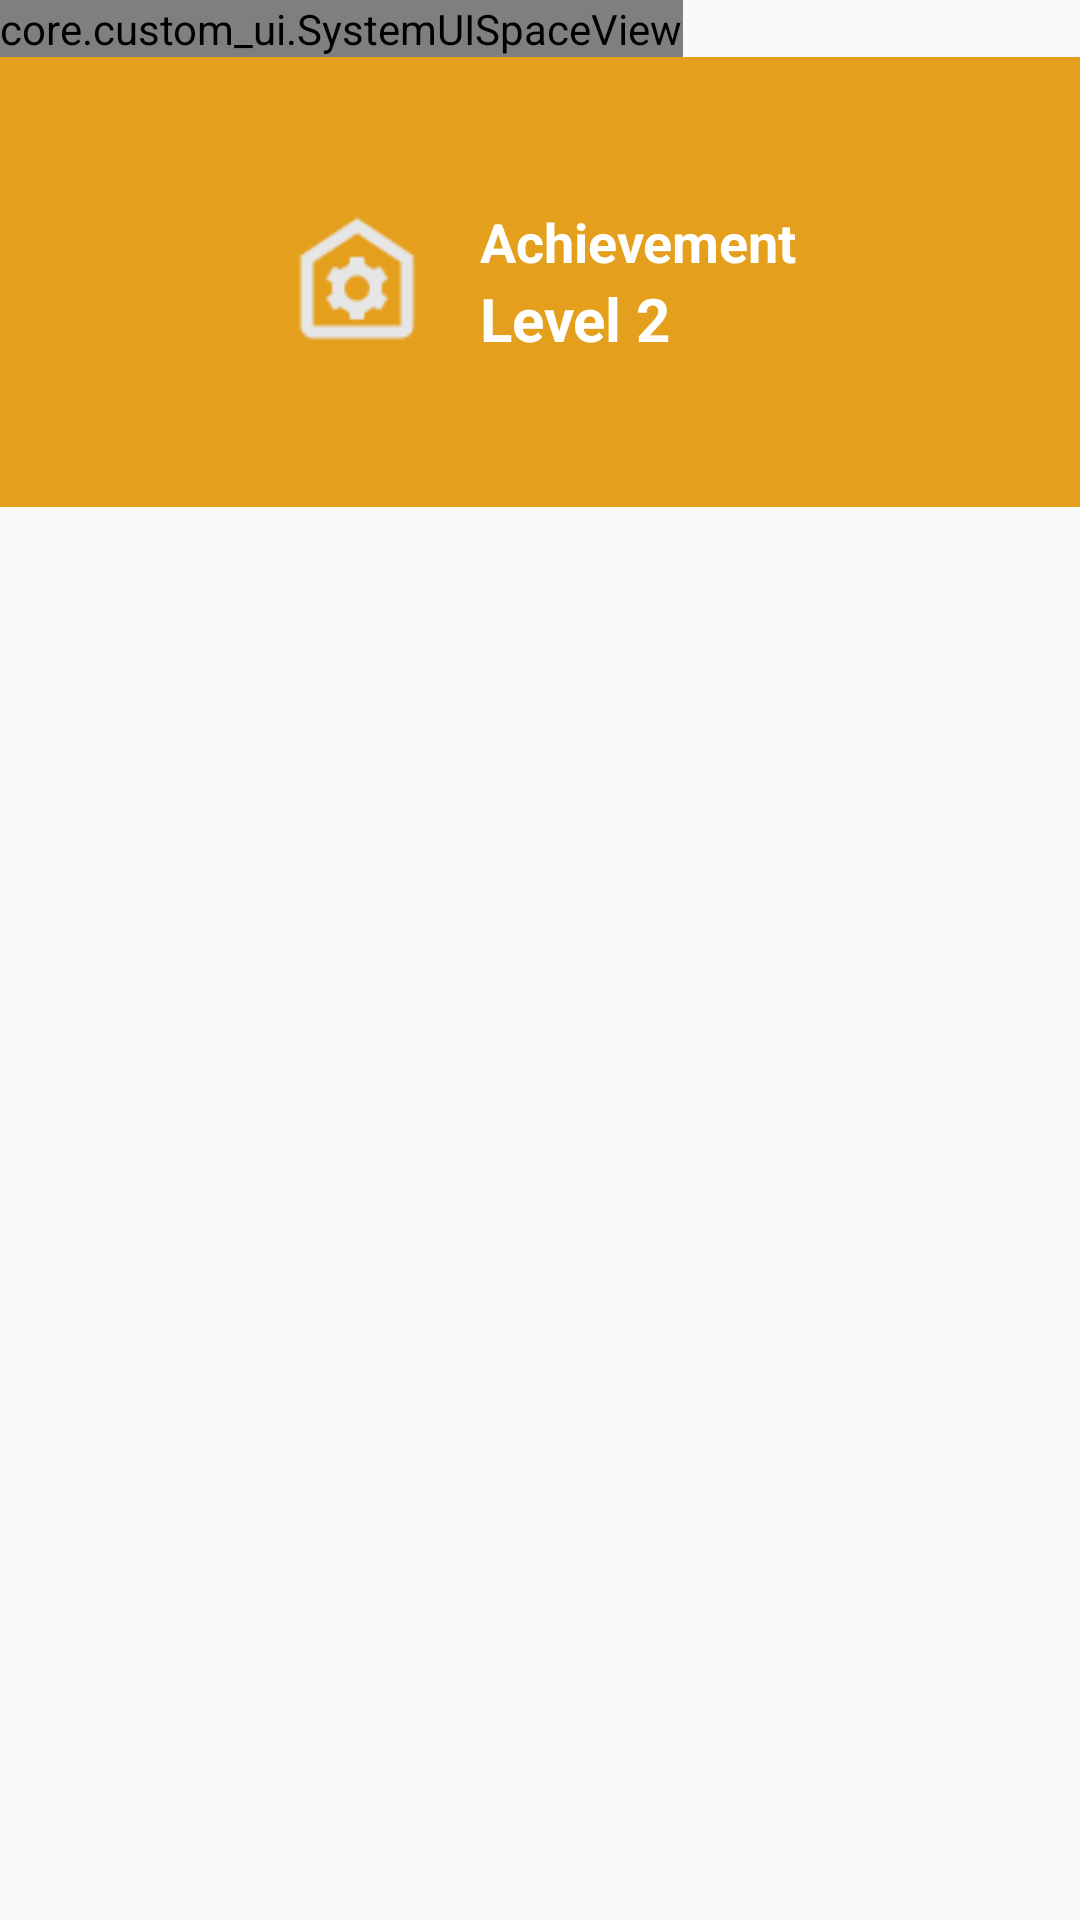

Icon bounding boxes for this 1080×1920 phone screenshot, format region(x1, y1, x2, y2):
home unselect: region(299, 217, 415, 340)
